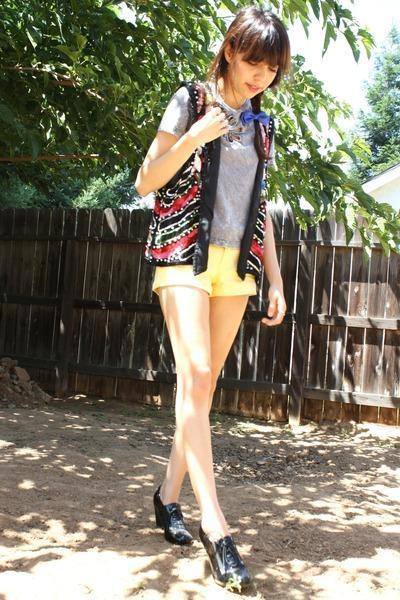jacket: (145, 84, 275, 286)
shirt: (156, 73, 256, 251)
shoe: (153, 485, 241, 563)
shorts: (152, 245, 298, 299)
